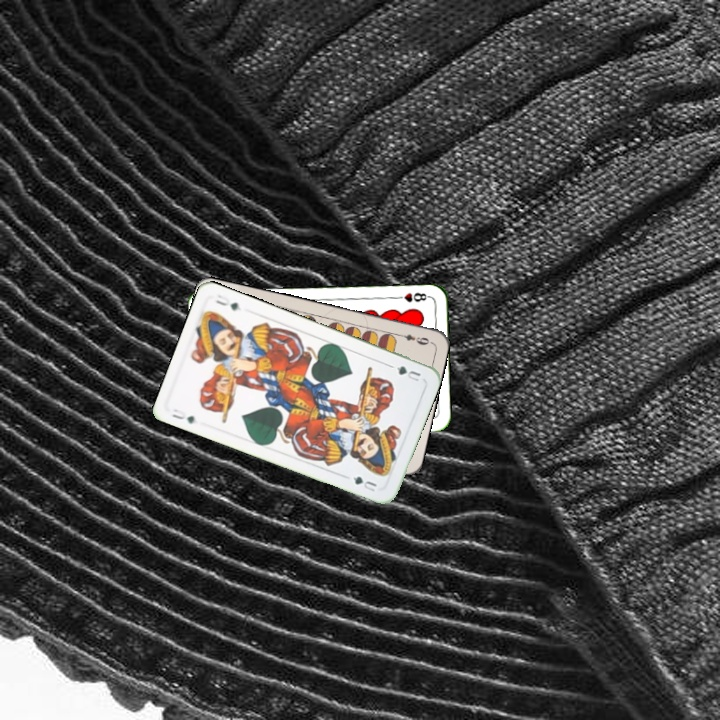E9: (393, 330, 432, 348)
GU: (392, 362, 423, 384), (168, 405, 197, 426)
H8: (391, 288, 432, 304)
